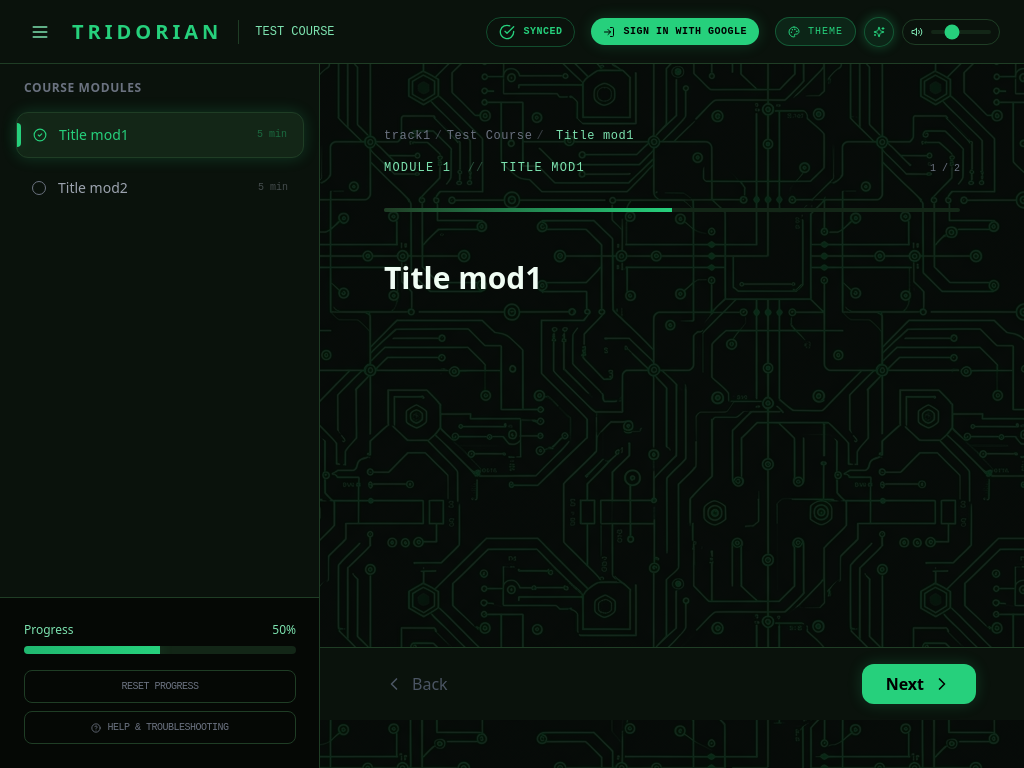
Test: Sidebar Progress Management & Reset › opens confirmation modal when "Reset Progress" is clicked
Click the button with aria-label "Reset all progress for this course" at x=160, y=686, box left=24, top=670, right=296, bottom=703
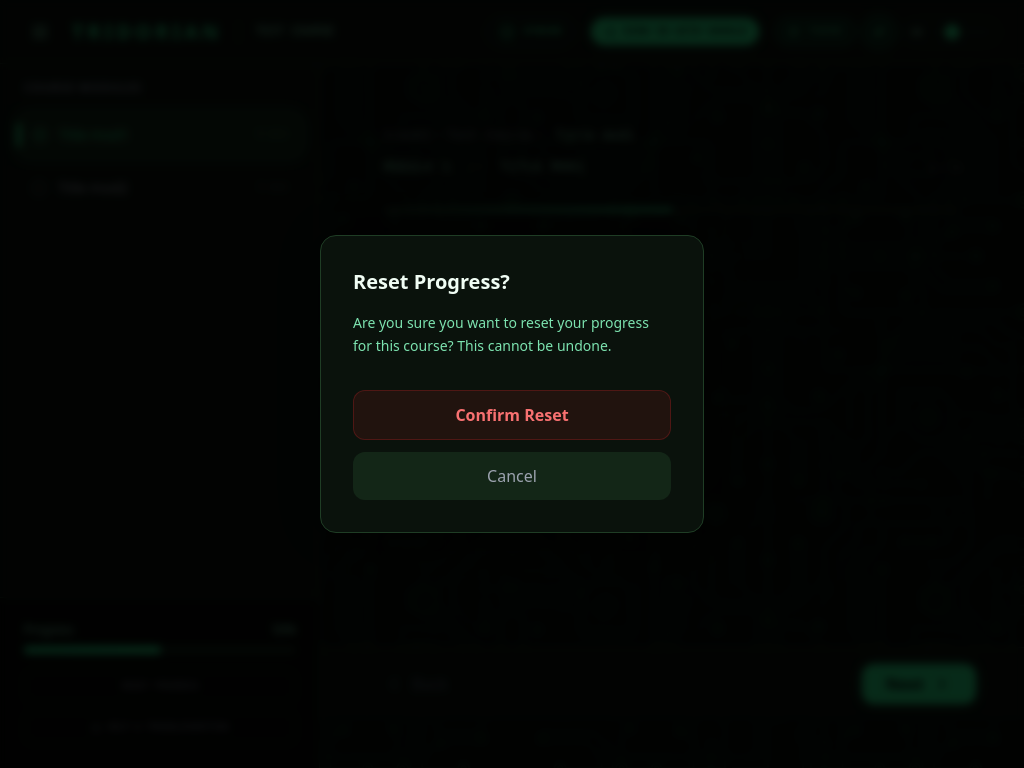
Now the text "Are you sure you want to reset your progress" is shown, box left=353, top=313, right=649, bottom=355
Now the button "Confirm Reset" is shown, box left=353, top=390, right=671, bottom=440
